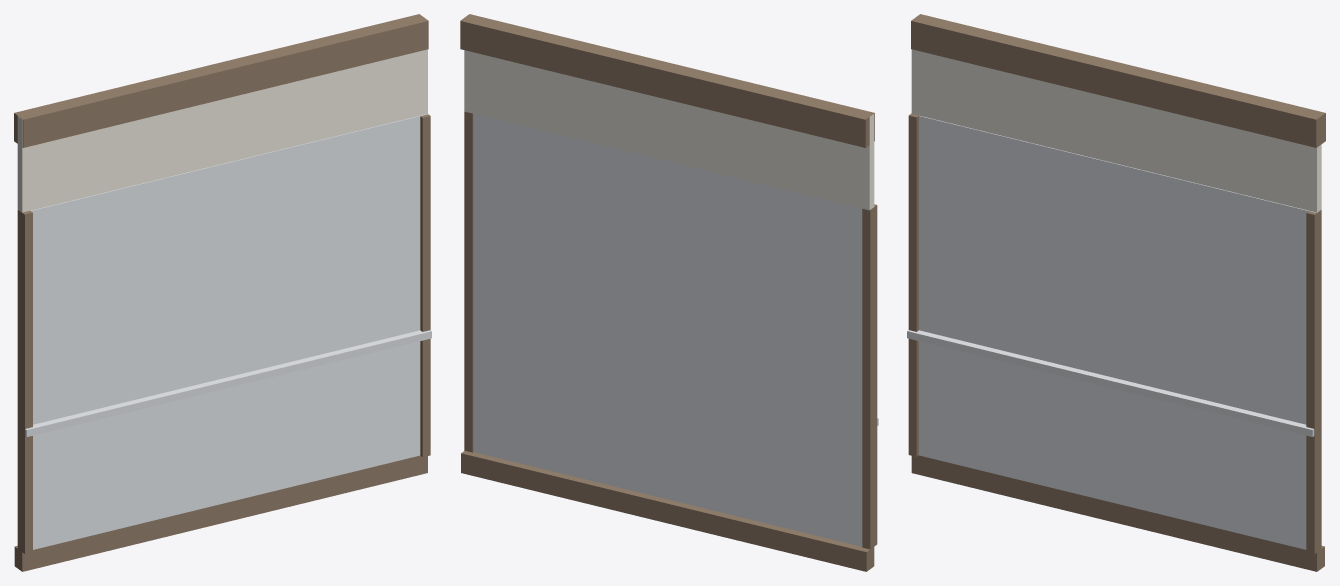
The model's file is martial-arts-dojo-and-fight-stages-mirror-wall-f5fc2886__18061.glb.
3 renders of one model, left to right at view 1: azimuth 30°, elevation 25°; view 2: azimuth 150°, elevation 25°; view 3: azimuth 330°, elevation 25°, orthographic.
Visible parts, largest first — view 1: mirror-wall; view 2: mirror-wall; view 3: mirror-wall.
Boxes of the visible parts, left/top/right/bottom form: mirror-wall: left=14, top=14, right=431, bottom=571; mirror-wall: left=460, top=14, right=878, bottom=571; mirror-wall: left=907, top=14, right=1325, bottom=571.
Bounding box in the file's own units: 3 × 3.2 × 0.165.
